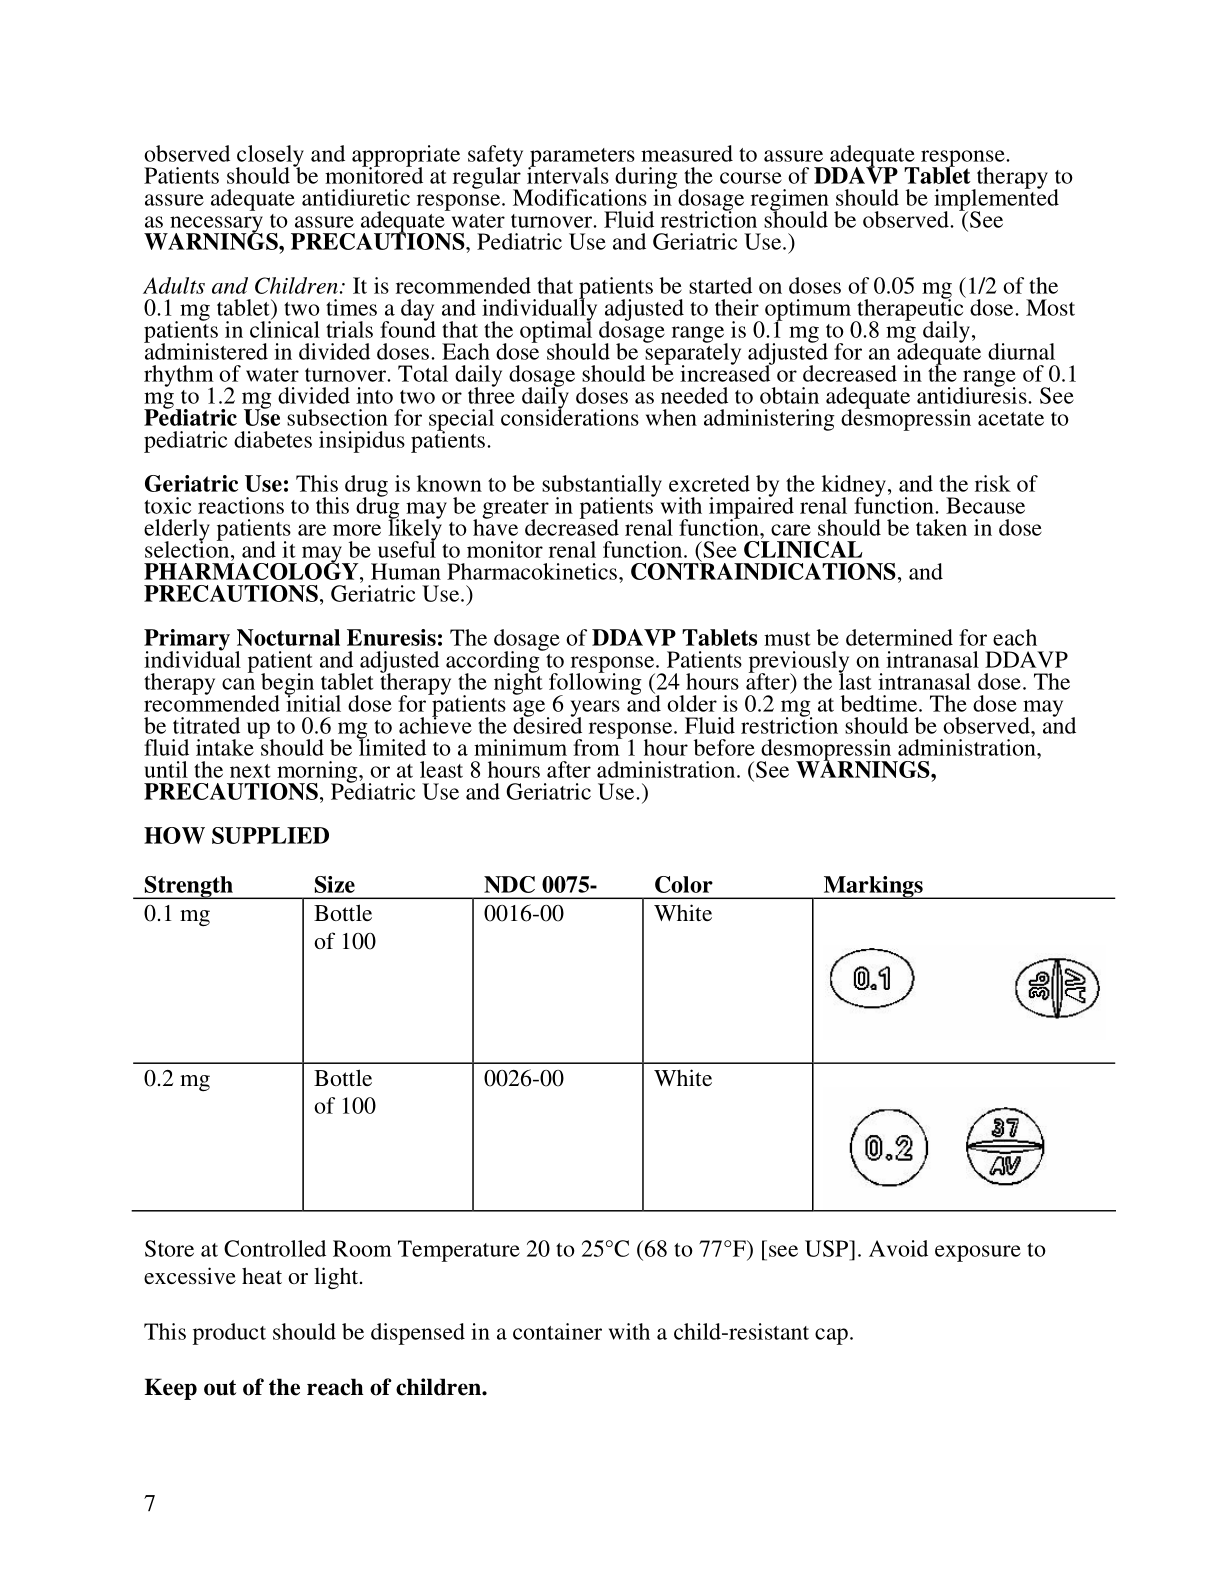partial_lined: (131, 869, 1119, 1214)
